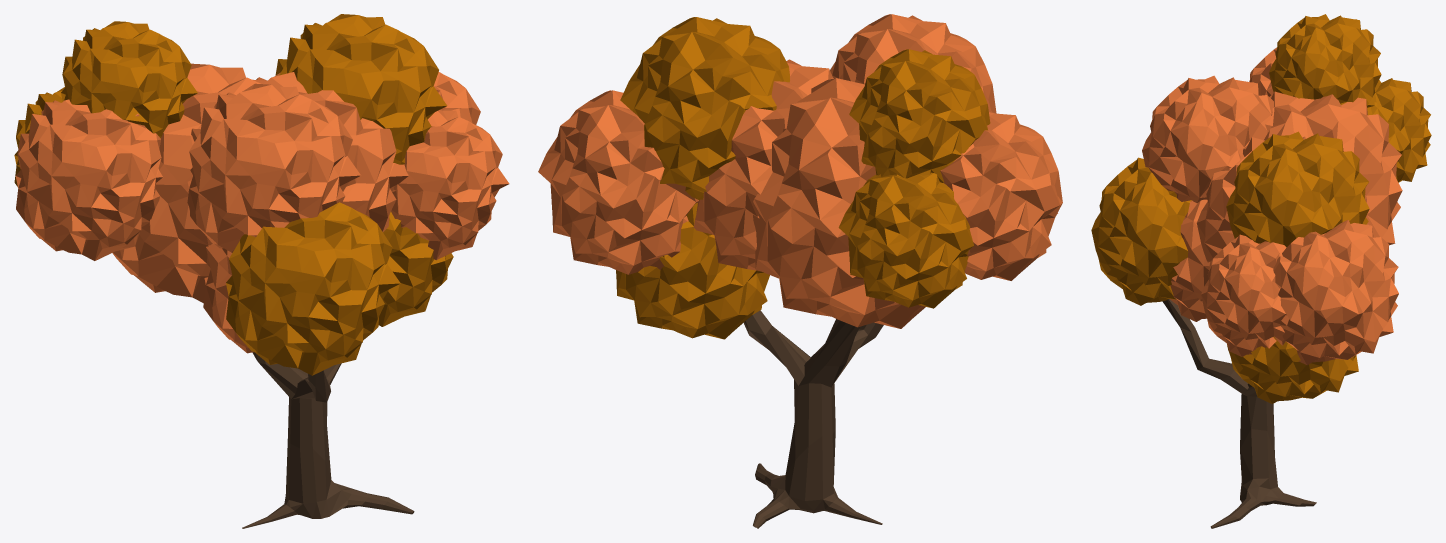
Rendered from fall tree 2.fbx.
3 views of the same model, side by side, from view 1: azimuth 30°, elevation 25°; view 2: azimuth 150°, elevation 25°; view 3: azimuth 270°, elevation 25° (orthographic). The views are drawn at different scales.
Parts seen in each view (by area): view 1: LowPoly Tree .024; view 2: LowPoly Tree .024; view 3: LowPoly Tree .024.
Boxes of the visible parts, left/top/right/bottom form: LowPoly Tree .024: left=14, top=14, right=509, bottom=528; LowPoly Tree .024: left=538, top=14, right=1062, bottom=528; LowPoly Tree .024: left=1091, top=14, right=1431, bottom=528.
Size of the model in its own units: 237 by 240 by 177.
